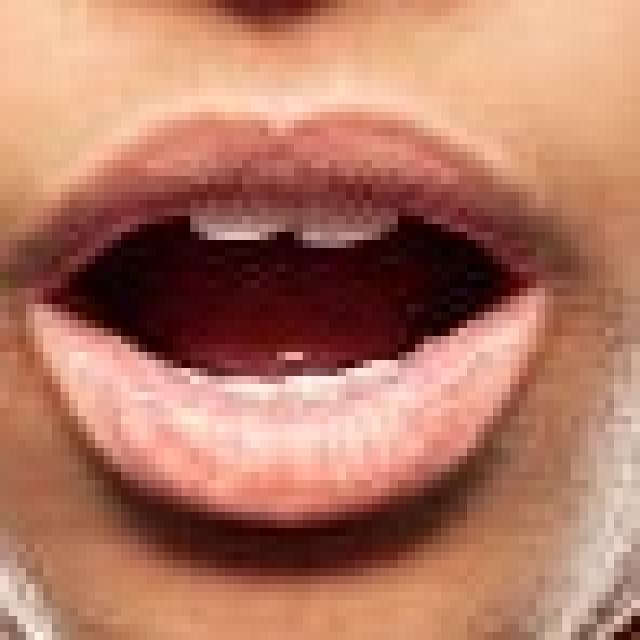open-mouth: (9, 96, 562, 528)
